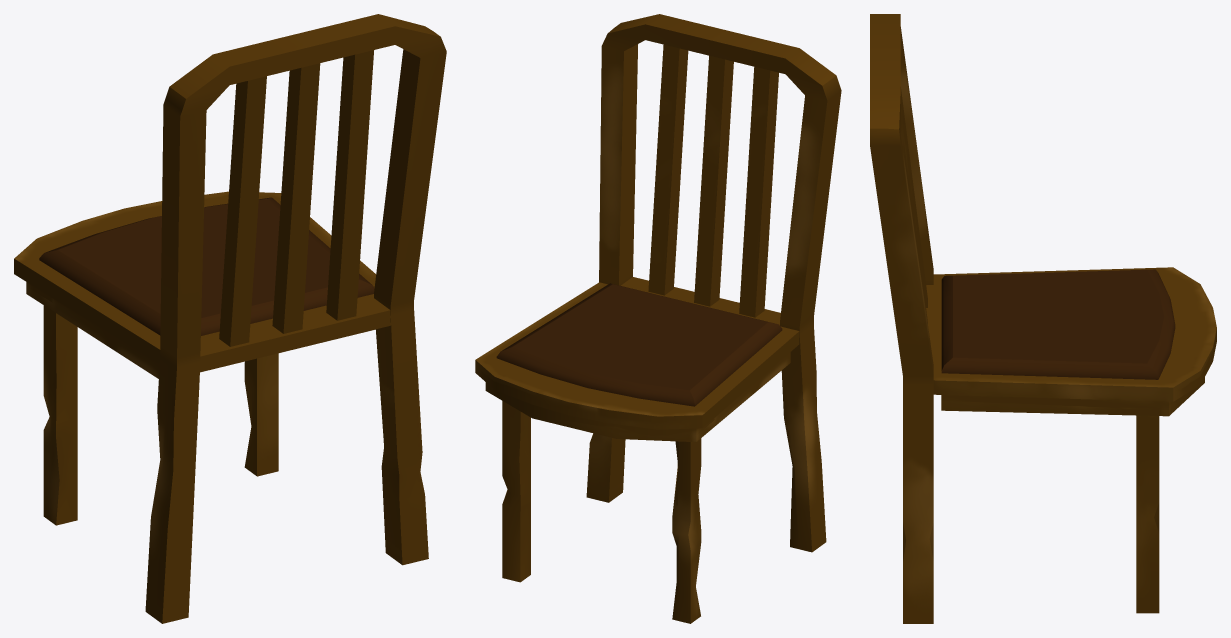
File: obj_chair_3d_7a61a3.glb
The picture shows the model from 3 angles, left to right: view 1: azimuth 30°, elevation 25°; view 2: azimuth 150°, elevation 25°; view 3: azimuth 270°, elevation 25°; orthographic projection. The views are drawn at different scales.
Parts seen in each view (by area): view 1: obj_chair_3d_7a61a3; view 2: obj_chair_3d_7a61a3; view 3: obj_chair_3d_7a61a3.
Part boxes in pixels (x1=…): obj_chair_3d_7a61a3: x1=14, y1=14, x2=446, y2=623; obj_chair_3d_7a61a3: x1=475, y1=14, x2=841, y2=623; obj_chair_3d_7a61a3: x1=870, y1=14, x2=1216, y2=623.
Size of the model in its own units: 0.4277 by 0.85 by 0.5212.
Materials: 1 (1 with a texture image).
